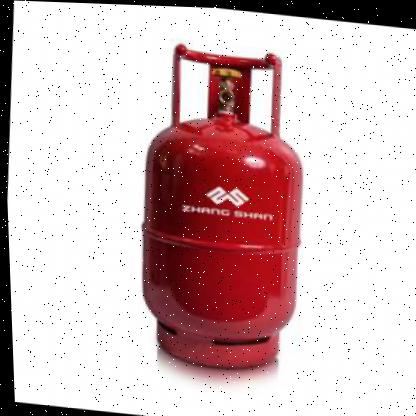gas-tank: (107, 30, 330, 395)
